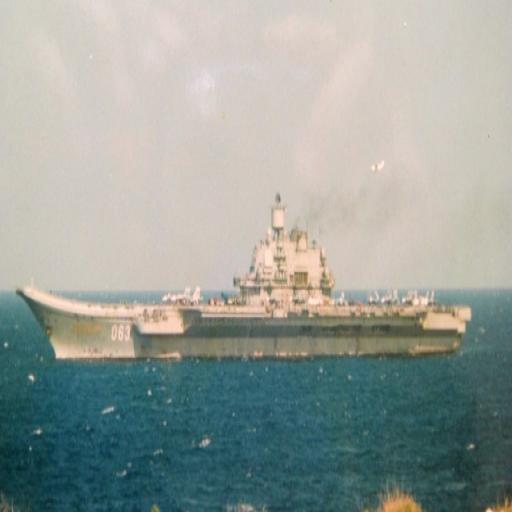Portanaves: (17, 183, 478, 371)
